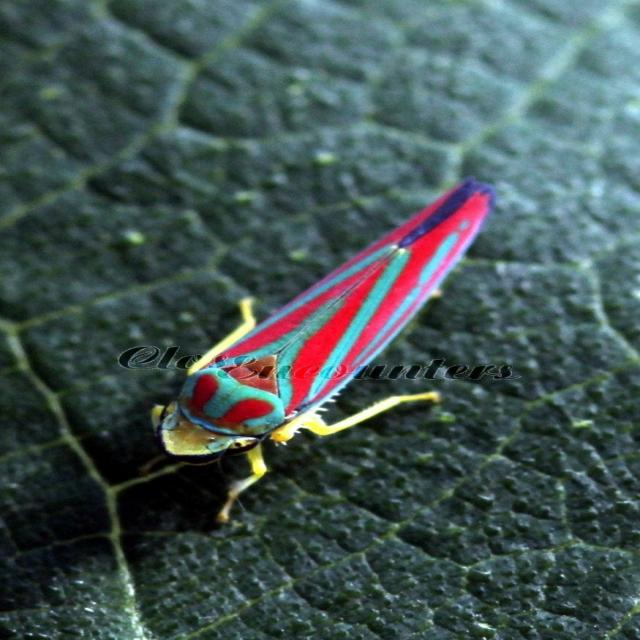Yechan: (145, 172, 508, 532)
